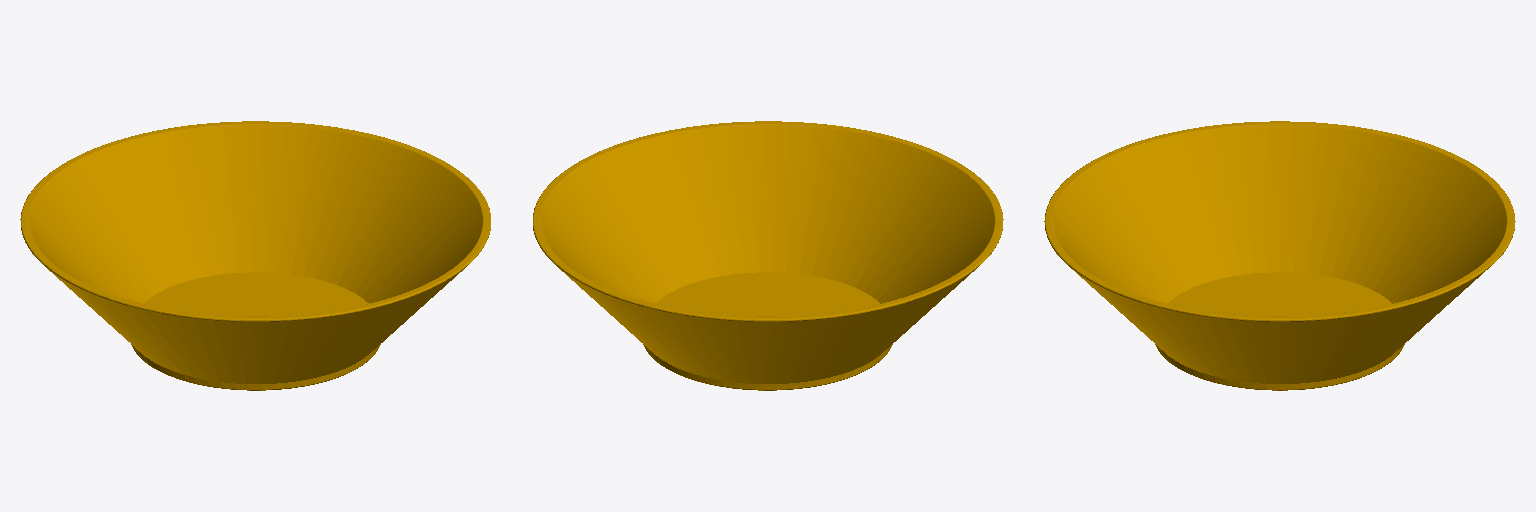
The robot description file, URDF, robot "fork":
<?xml version="1.0"?>
<robot name="fork">
  <link concave="yes" name="base_link">
    <visual>
      <!--<origin xyz="0 0 0" rpy="1.57 0 0" />-->
      <geometry>
        <mesh filename="bowl.obj" scale = "0.001 0.001 0.001"/>
      </geometry>
      <material name="brown">
        <color rgba="0.8 0.6 0 1.0" />
      </material>
    </visual>
    <collision concave="yes">
      <!--<origin xyz="0 0 0" rpy="1.57 0 0" />-->
      <geometry>
        <mesh filename="bowl.obj" scale = "0.001 0.001 0.001"/>
      </geometry>
    </collision>
   </link>
</robot>

--- Render facts (derived) ---
3 views of the same robot in one strip: view 1: azimuth 30°, elevation 25°; view 2: azimuth 150°, elevation 25°; view 3: azimuth 270°, elevation 25° (orthographic).
Model fork with 1 links and 0 joints (none), rooted at base_link, posed every joint at zero.
Links seen in each view (by area): view 1: base_link; view 2: base_link; view 3: base_link.
Boxes of the visible links, x1,y1,x2,y2 form: base_link: (20,121,490,390); base_link: (533,121,1003,390); base_link: (1044,121,1515,390).
Bounding box of the posed robot: 0.1543 × 0.1543 × 0.0425 m (x, y, z).
1 mesh visuals loaded from 1 distinct referenced files (1 OBJ).